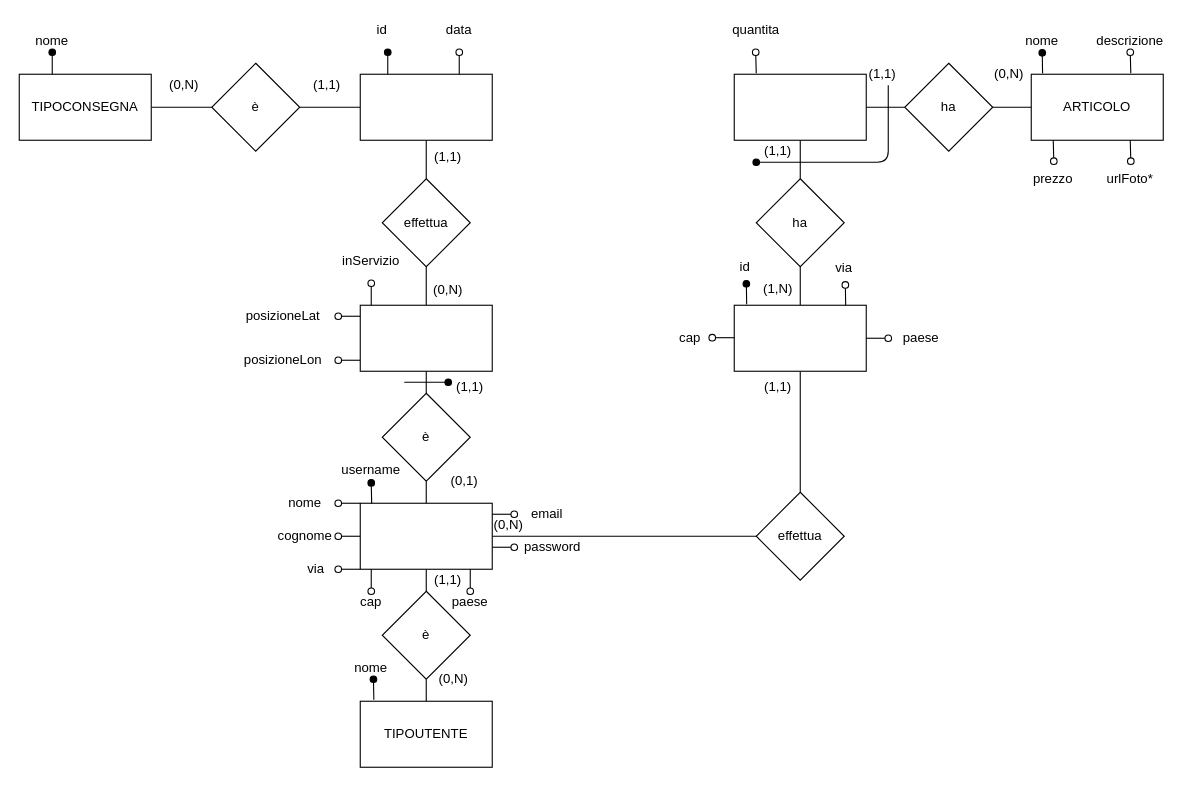
The diagram is 1183 pixels wide and 787 high, and some of its shapes have lost their labels. Here are the shapes that lost their labels. From the top down, the centre of each, then its label:
At (x=425, y=106): "CONSEGNA".
At (x=799, y=106): "ORDINEARTICOLO".
At (x=425, y=337): "FATTORINO".
At (x=799, y=337): "ORDINAZIONE".
At (x=425, y=535): "UTENTE".
